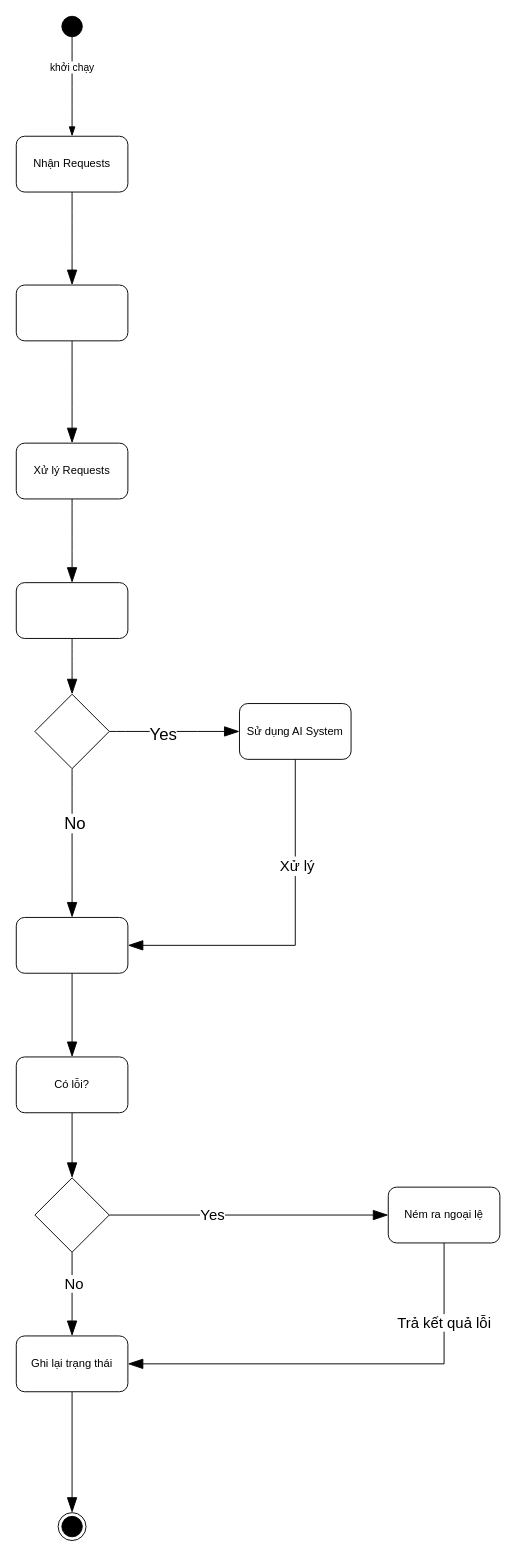
The diagram is 516 pixels wide and 1557 high, and some of its shapes have lost their labels. Here are the shapes that lost their labels. From the top down, the centre of each, then its label:
(x=71, y=312): Kiểm tra dữ liệu hợp lệ
(x=71, y=610): Có sử dụng AI System?
(x=71, y=945): Trả về phản hồi
